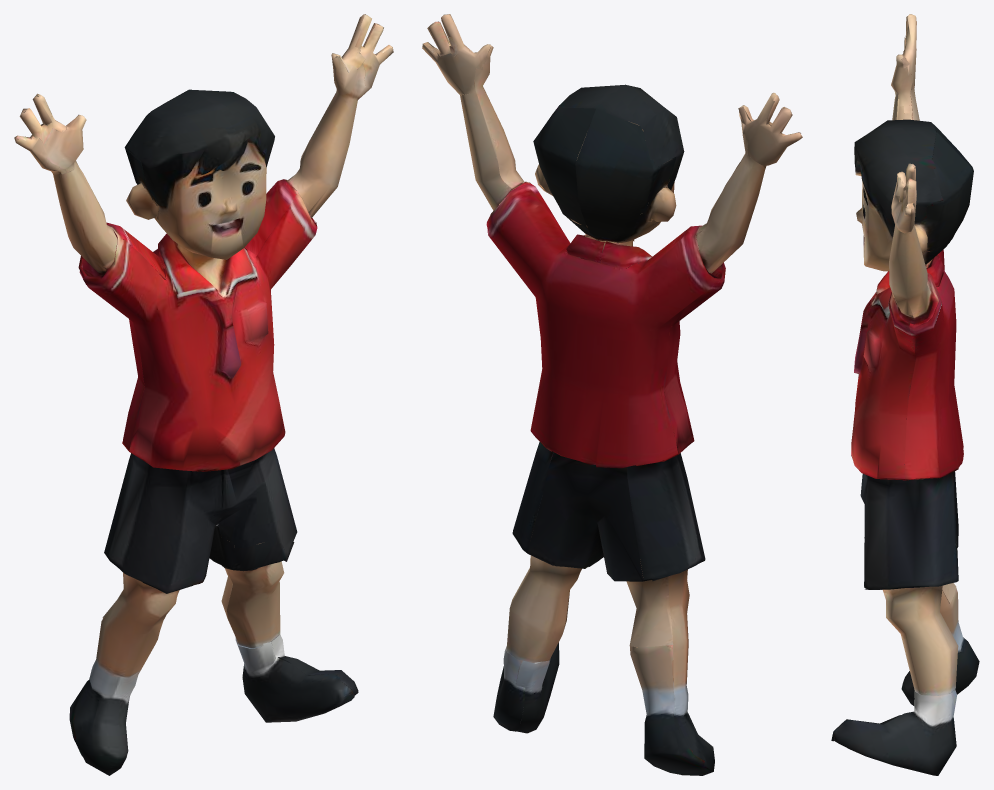
Rendered from crowd-kid.glb.
3 views of the same model, side by side, from view 1: azimuth 30°, elevation 25°; view 2: azimuth 150°, elevation 25°; view 3: azimuth 270°, elevation 25° (orthographic). The views are drawn at different scales.
Visible parts, largest first — view 1: model; view 2: model; view 3: model.
Part boxes in pixels (x1,y1,x2,y2): model: (14, 14, 393, 775); model: (422, 14, 802, 775); model: (831, 14, 979, 775).
Bounding box in the file's own units: 0.6798 × 1.2 × 0.2453.
1 material, 1 textured.
